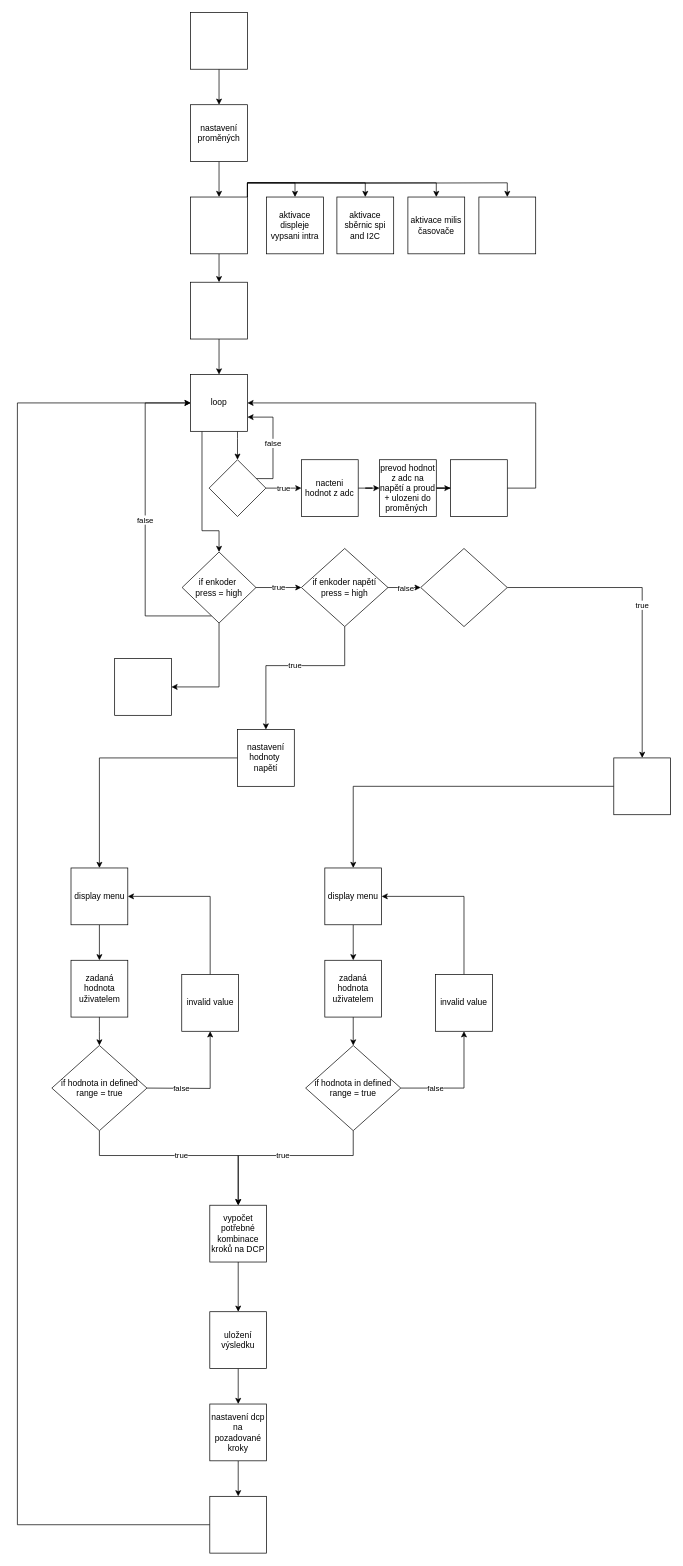
Image size: 683x1566. Some labels were removed from this diagram. Each missing label, with the centre of its shape:
aktivace rele, ADS a DCP: the point at 507,225
aktivace výstupu zdroje: the point at 238,1524
delay pro ustaleni HW nastavení (2000ms): the point at 218,310
entery point: the point at 218,40
if enkoder proud press = high: the point at 463,587
if tik = high: the point at 237,488
nastavení hodnoty proudu: the point at 642,786
odpojení výstupu: the point at 142,686
set up: the point at 218,225
vypsání hodnot na displeji: the point at 478,488
